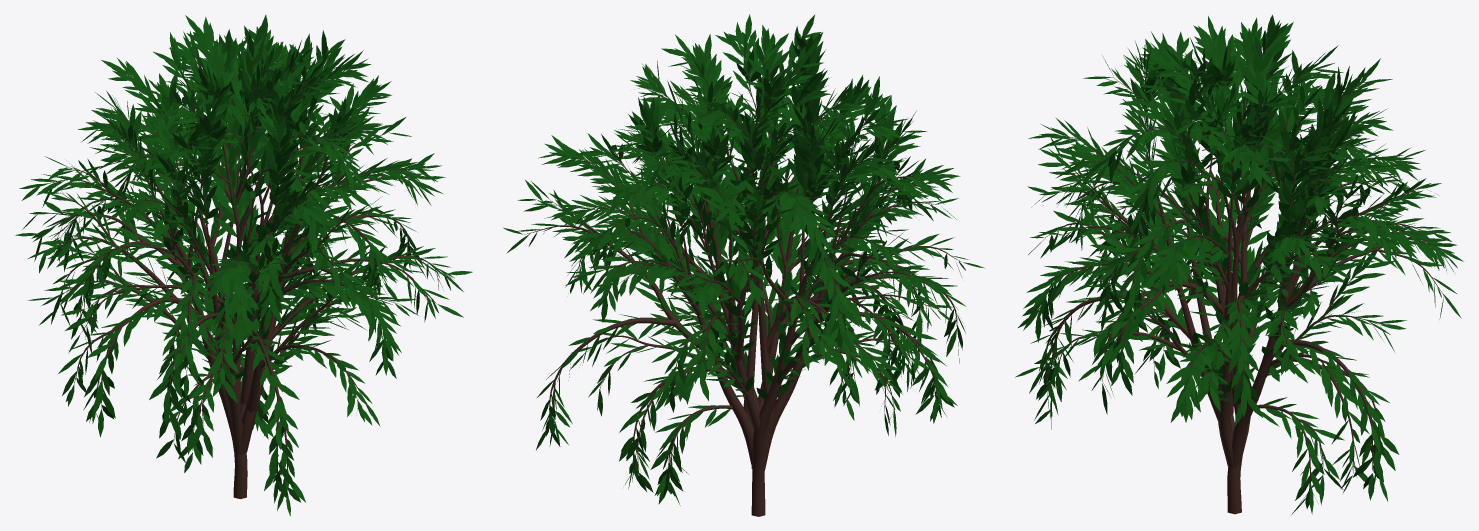
Rendered from tree01.gltf.
The picture shows the model from 3 angles, left to right: view 1: azimuth 30°, elevation 25°; view 2: azimuth 150°, elevation 25°; view 3: azimuth 270°, elevation 25°; orthographic projection. The views are drawn at different scales.
Parts seen in each view (by area): view 1: leaves, tree; view 2: leaves, tree; view 3: leaves, tree.
Boxes of the visible parts, x1,y1,x2,y2 form: leaves: (15,14,472,516); tree: (40,57,445,498); leaves: (503,14,984,505); tree: (524,47,960,516); leaves: (1015,14,1463,514); tree: (1040,48,1442,514).
Size of the model in its own units: 6.23 by 6.42 by 5.44.
